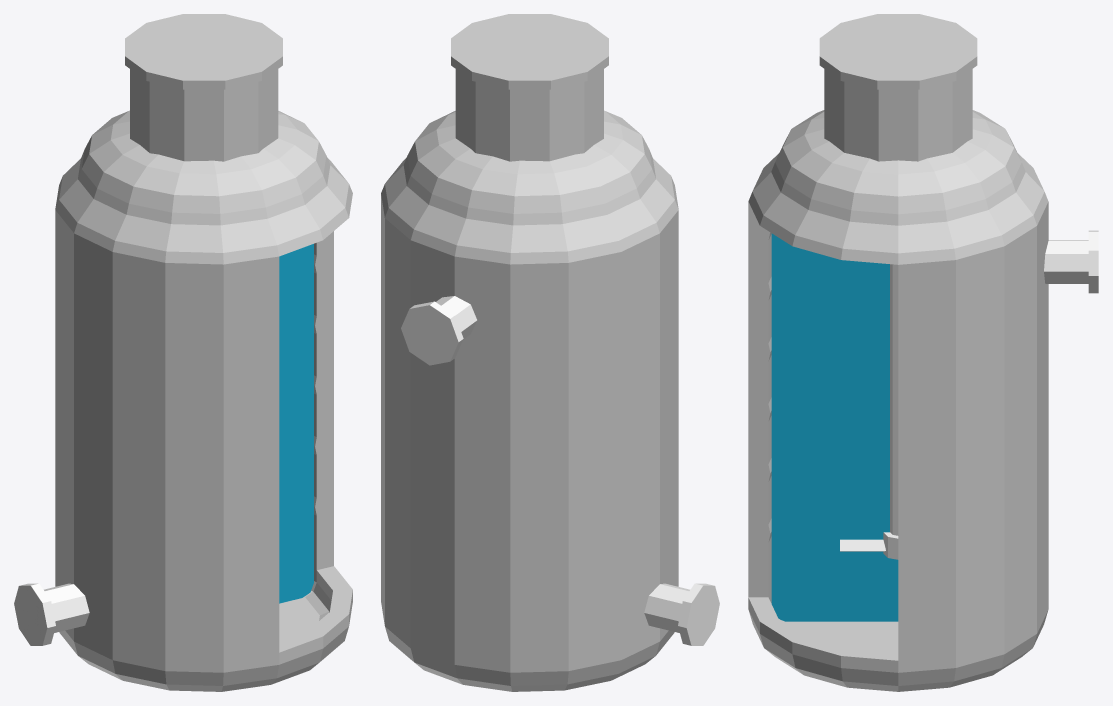
The model's file is mixer.glb.
The picture shows the model from 3 angles, left to right: view 1: azimuth 30°, elevation 25°; view 2: azimuth 150°, elevation 25°; view 3: azimuth 270°, elevation 25°; orthographic projection.
Parts seen in each view (by area): view 1: shell.band, shell.upper, liquid, shell.lower, housing, housing.lid, outlet, outlet.flange; view 2: shell.band, shell.upper, housing, housing.lid, shell.lower, inlet.flange, outlet, inlet, outlet.flange; view 3: shell.band, liquid, shell.upper, shell.lower, housing, housing.lid, shaft, inlet, inlet.flange, impeller.blade.2.
Boxes of the visible parts, x1,y1,x2,y2 form: shell.band: [55, 210, 333, 660]; shell.upper: [55, 110, 352, 264]; liquid: [279, 244, 313, 603]; shell.lower: [59, 566, 352, 691]; housing: [130, 69, 278, 161]; housing.lid: [125, 14, 282, 89]; outlet: [19, 583, 89, 636]; outlet.flange: [14, 583, 55, 645]; shell.band: [381, 194, 678, 660]; shell.upper: [381, 110, 678, 264]; housing: [455, 69, 603, 161]; housing.lid: [451, 14, 608, 89]; shell.lower: [381, 590, 674, 691]; inlet.flange: [401, 301, 463, 365]; outlet: [644, 583, 714, 636]; inlet: [409, 296, 477, 356]; outlet.flange: [678, 583, 719, 645]; shell.band: [748, 202, 1048, 660]; liquid: [771, 233, 898, 621]; shell.upper: [748, 110, 1048, 264]; shell.lower: [748, 591, 1048, 691]; housing: [824, 69, 972, 161]; housing.lid: [819, 14, 977, 89]; shaft: [890, 264, 898, 535]; inlet: [1044, 240, 1088, 283]; inlet.flange: [1088, 230, 1098, 293]; impeller.blade.2: [840, 539, 885, 551].
Size of the model in its own units: 1.05 by 1.96 by 1.05.
